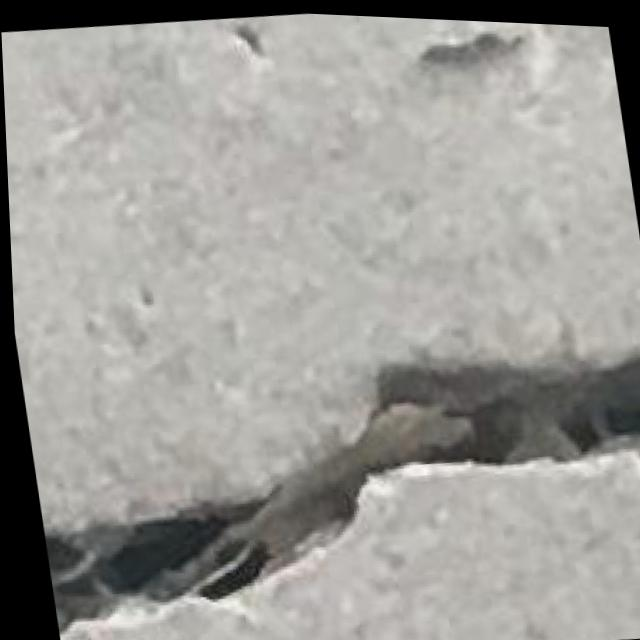Crack: (12, 285, 640, 640)
